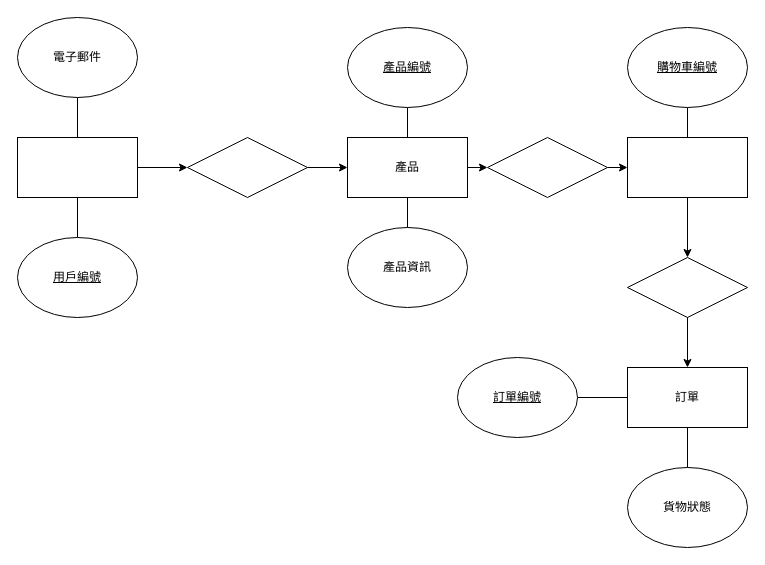
Some shapes in this 765 by 565 pixel diagram are drawn without their labels. Each missing label, with the centre of its shape:
"提交" belongs at point 687,287.
"查看" belongs at point 247,167.
"添加" belongs at point 547,167.
"用戶" belongs at point 77,167.
"購物車" belongs at point 687,167.
